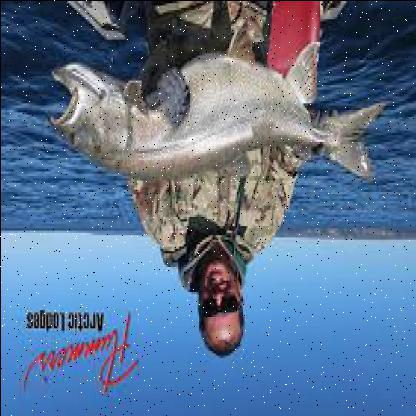fish: (48, 29, 388, 180)
